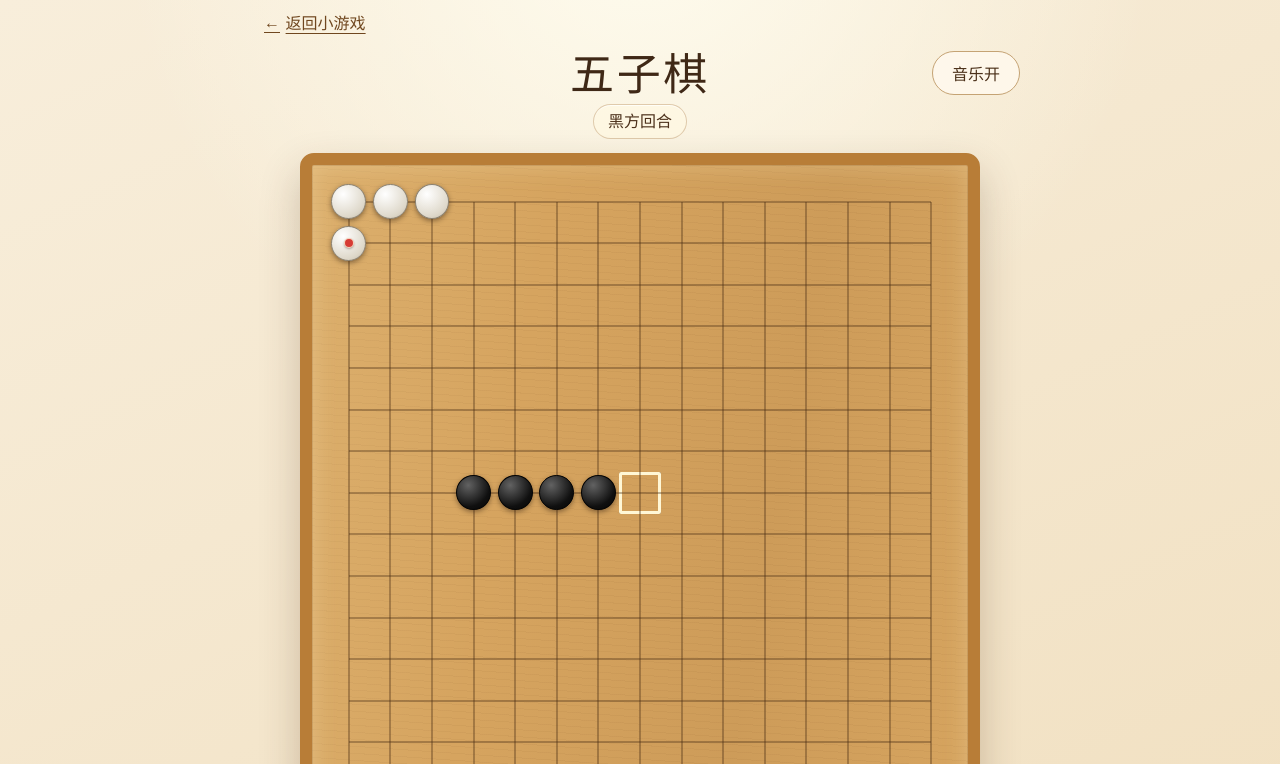
Test: GomokuPage › 键盘 Enter 完成胜利后弹窗接管焦点，悔棋后恢复原棋位
The image size is (1280, 764).
Press Enter
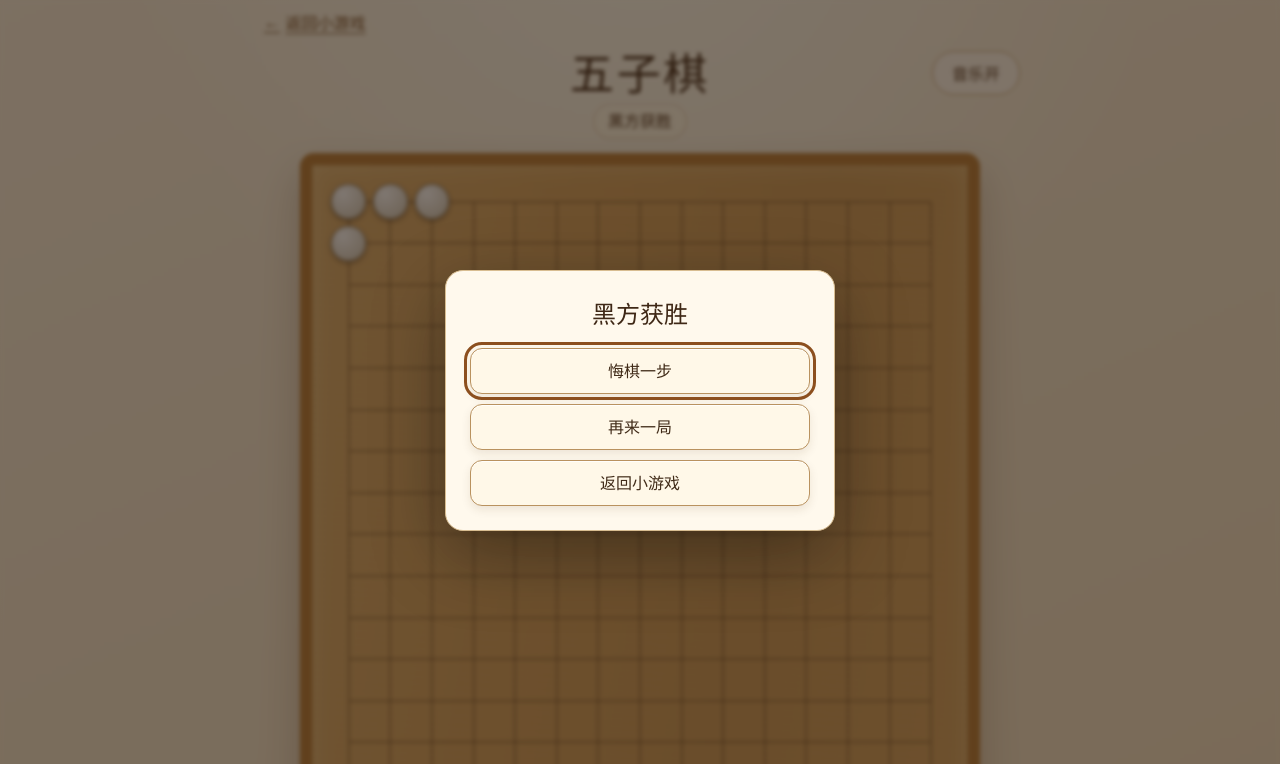
Press Escape
Expected: the dialog "黑方获胜" is shown, x1=445 y1=270 x2=835 y2=530
Click the button "悔棋一步" at (640, 370), box x1=470 y1=348 x2=810 y2=394
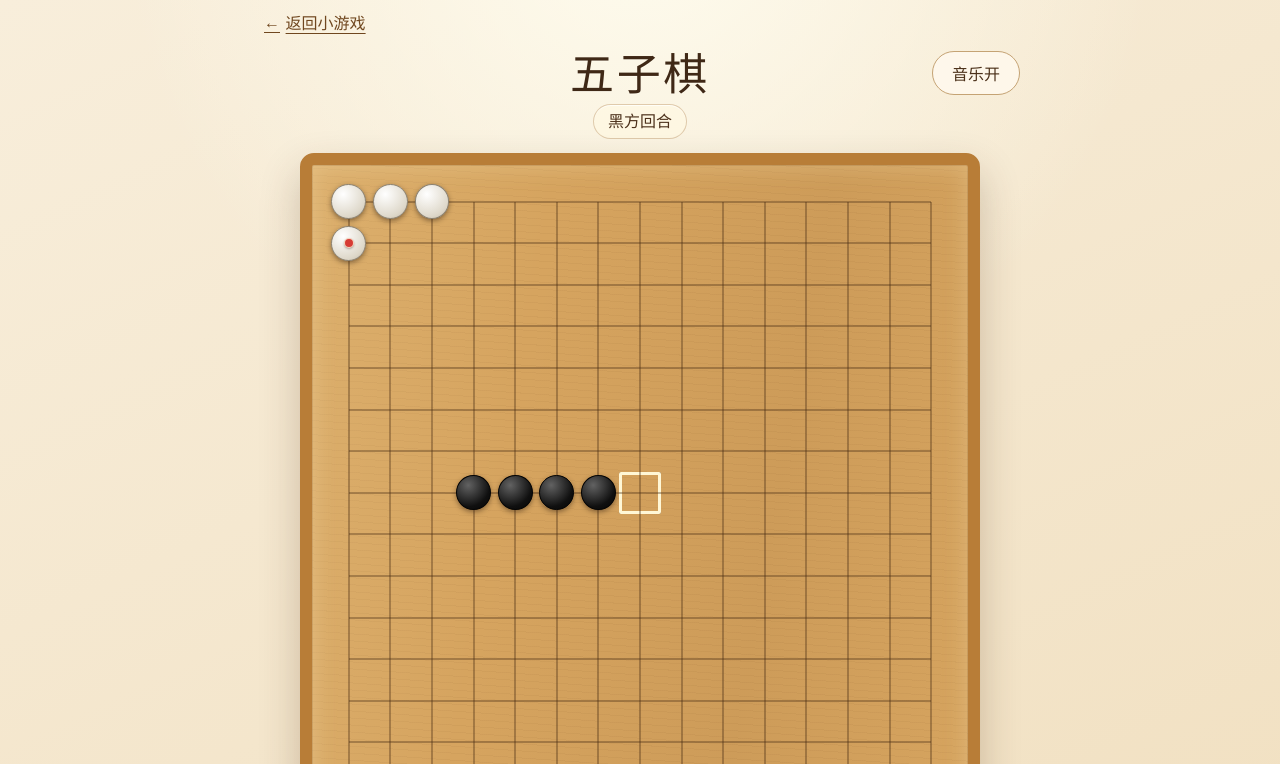
Expected: the dialog is gone
Expected: the text "黑方回合" is shown, x1=593 y1=104 x2=687 y2=139
